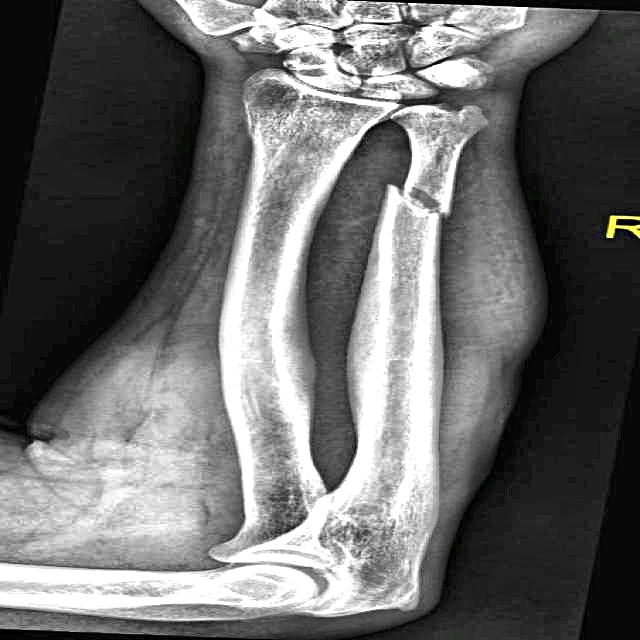Oblique Displaced: (346, 163, 495, 237)
